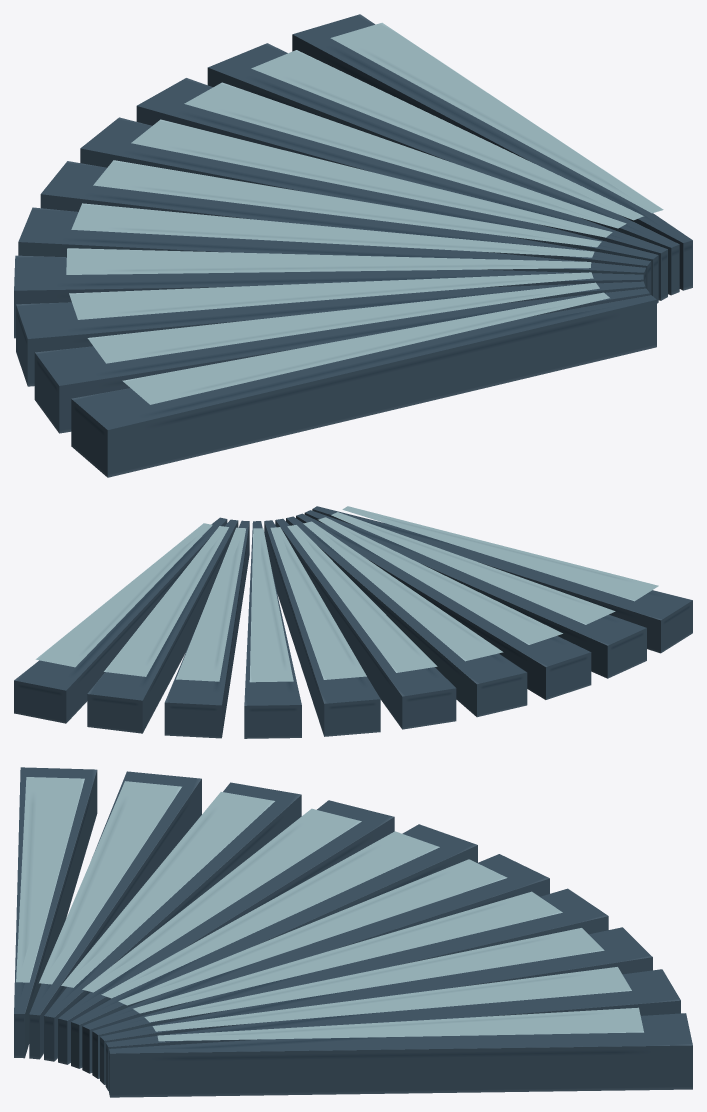
File: sc_tread_curve_right_5.obj
3 views of the same model, one above another, from view 1: azimuth 30°, elevation 25°; view 2: azimuth 150°, elevation 25°; view 3: azimuth 270°, elevation 25° (orthographic). The views are drawn at different scales.
Bounding box in the file's own units: 17.42 × 1.56 × 17.46.
Materials: 1 (1 with a texture image).
